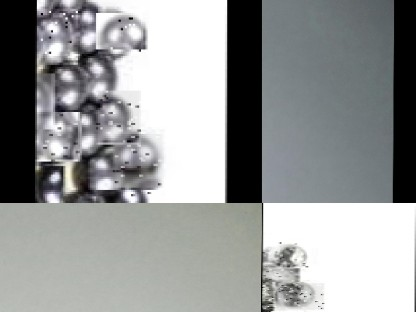ironball: (111, 133, 160, 187), (95, 90, 138, 144), (34, 8, 75, 64), (33, 112, 79, 161), (95, 8, 141, 53), (262, 239, 310, 268), (276, 283, 322, 310), (33, 166, 62, 202), (34, 73, 52, 129), (262, 264, 293, 291), (95, 189, 152, 202), (262, 234, 278, 254), (262, 282, 273, 311), (268, 310, 307, 311)
